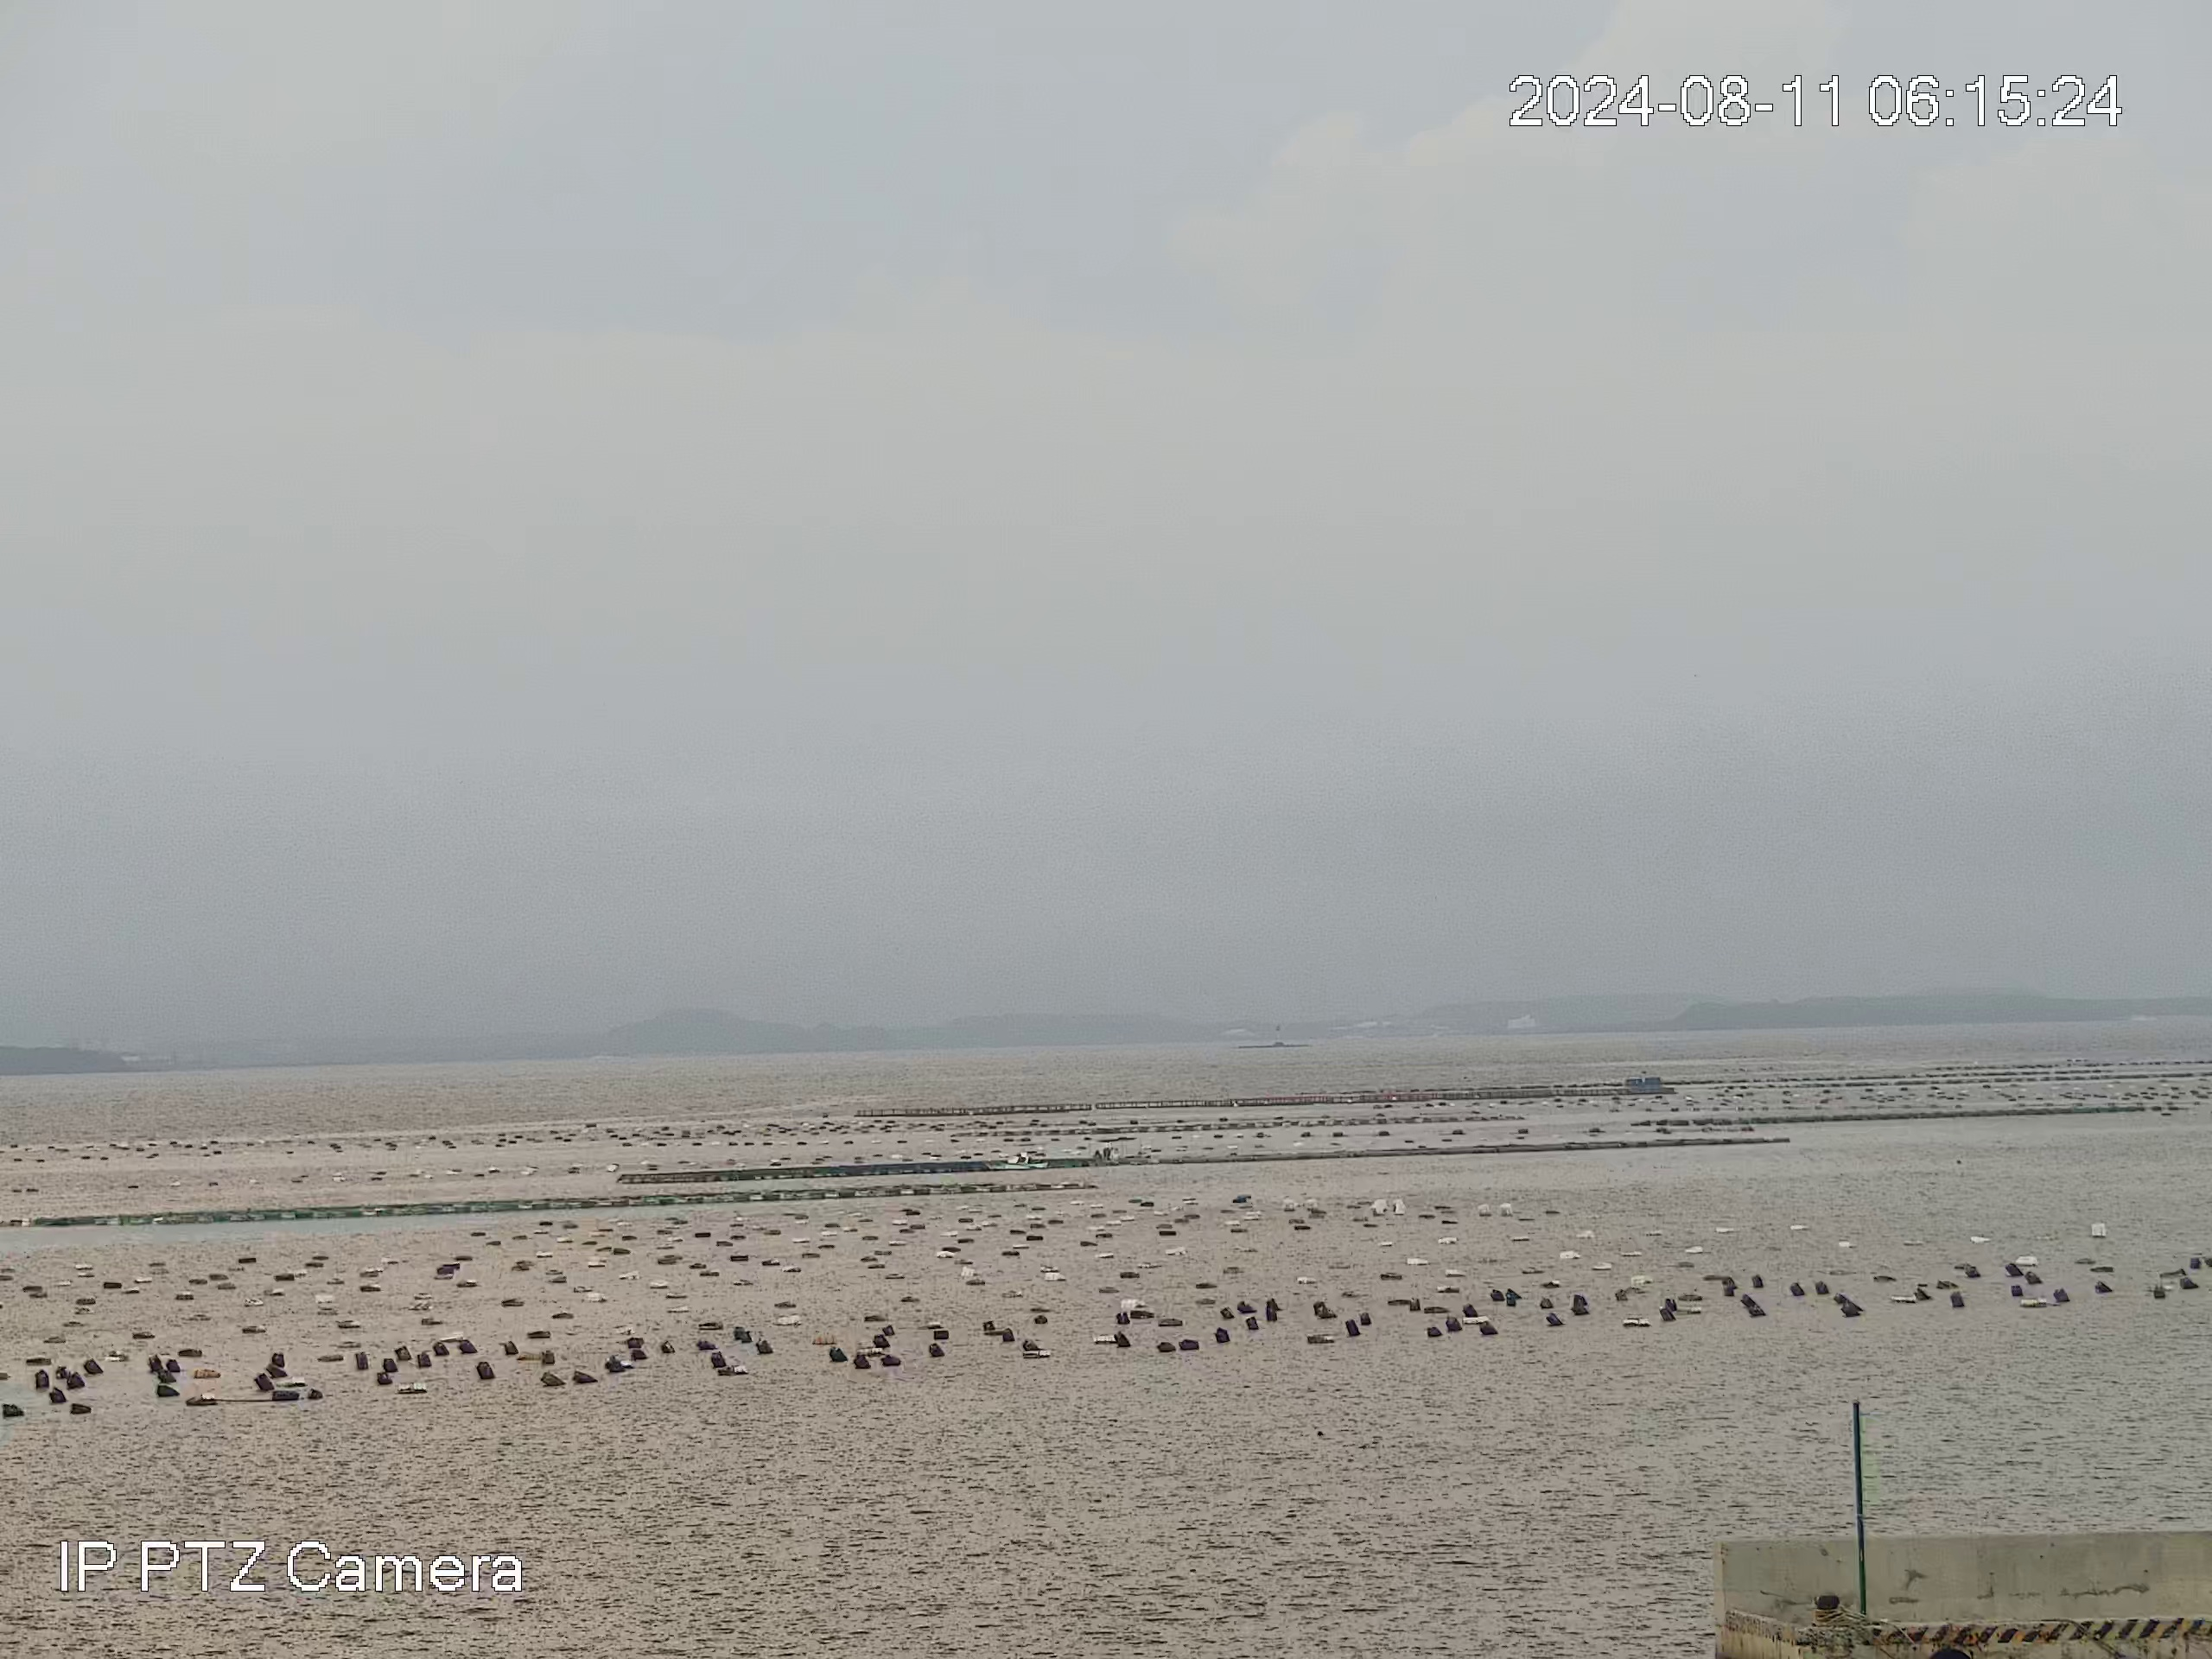boat: (981, 1150, 1050, 1173)
